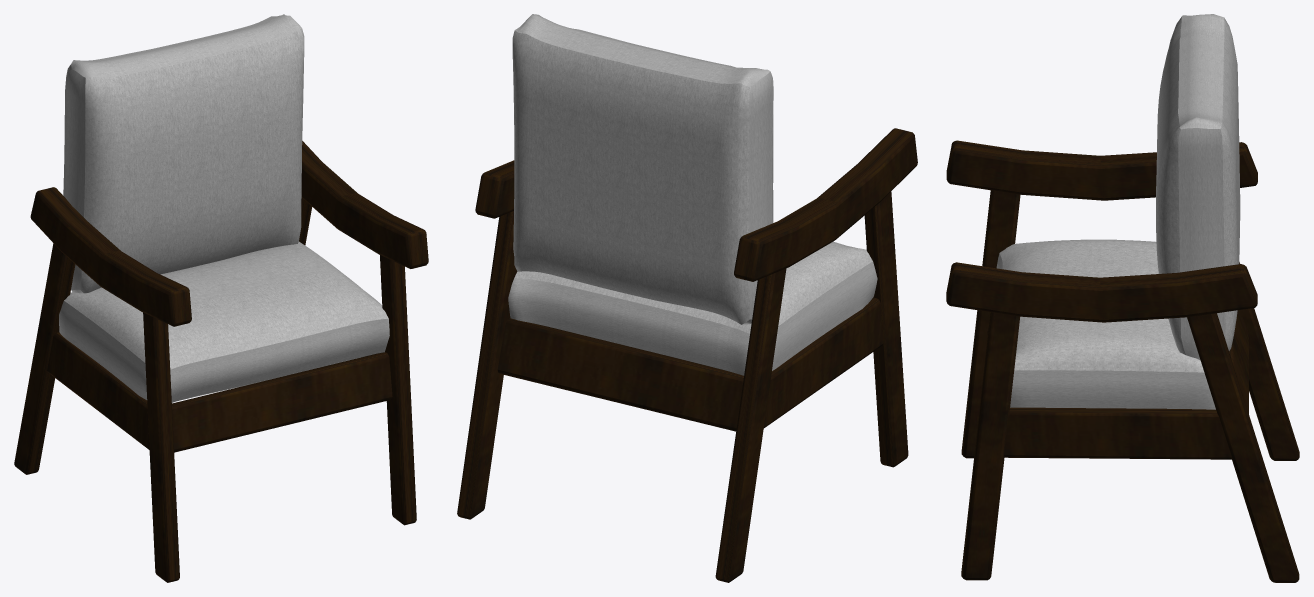
The model's file is Bed room chair.FBX.
3 views of the same model, side by side, from view 1: azimuth 30°, elevation 25°; view 2: azimuth 150°, elevation 25°; view 3: azimuth 270°, elevation 25° (orthographic). The views are drawn at different scales.
Visible parts, largest first — view 1: Bed room chair; view 2: Bed room chair; view 3: Bed room chair.
Boxes of the visible parts, box(x1,y1,x2,y2) form: Bed room chair: box(14, 14, 428, 582); Bed room chair: box(457, 14, 917, 582); Bed room chair: box(946, 14, 1299, 582).
Size of the model in its own units: 74.49 by 117 by 82.75.
Materials: 2 (2 with a texture image).
